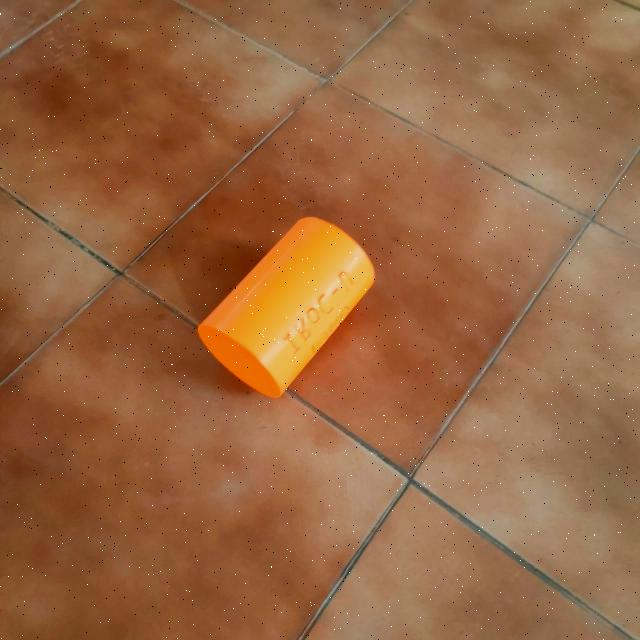Cylinder: (197, 215, 377, 399)
